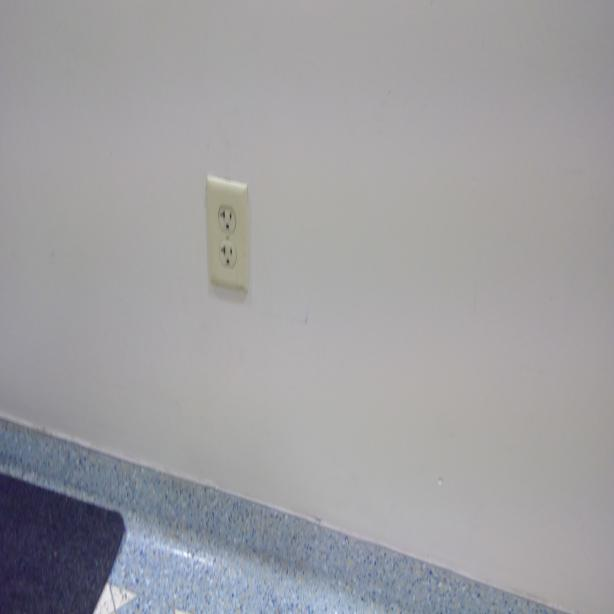typeb: (217, 241, 237, 269), (218, 206, 234, 232)
